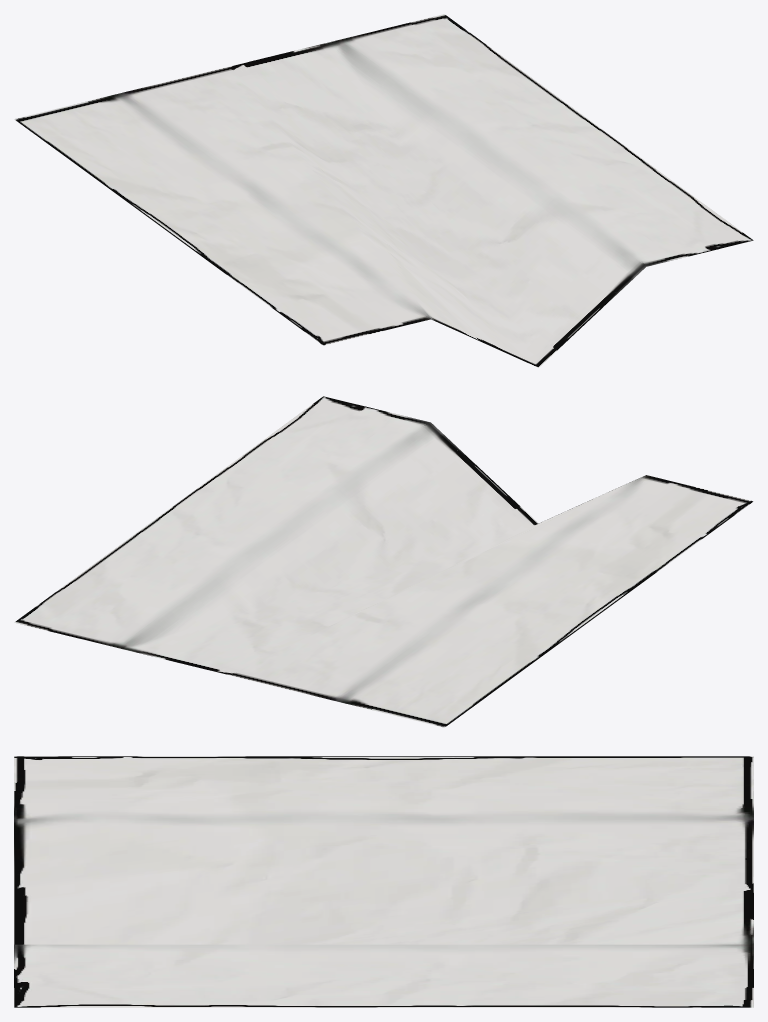
The model's file is animated paper-plane.glb.
3 views of the same model, one above another, from view 1: azimuth 30°, elevation 25°; view 2: azimuth 150°, elevation 25°; view 3: azimuth 270°, elevation 25° (orthographic). The views are drawn at different scales.
Visible parts, largest first — view 1: Plane; view 2: Plane; view 3: Plane.
Boxes of the visible parts, <box> form: Plane: <box>14,14,753,367</box>; Plane: <box>14,396,753,727</box>; Plane: <box>14,756,753,1007</box>.
Size of the model in its own units: 2 by 0.3318 by 2.49.
Materials: 1 (1 with a texture image).
